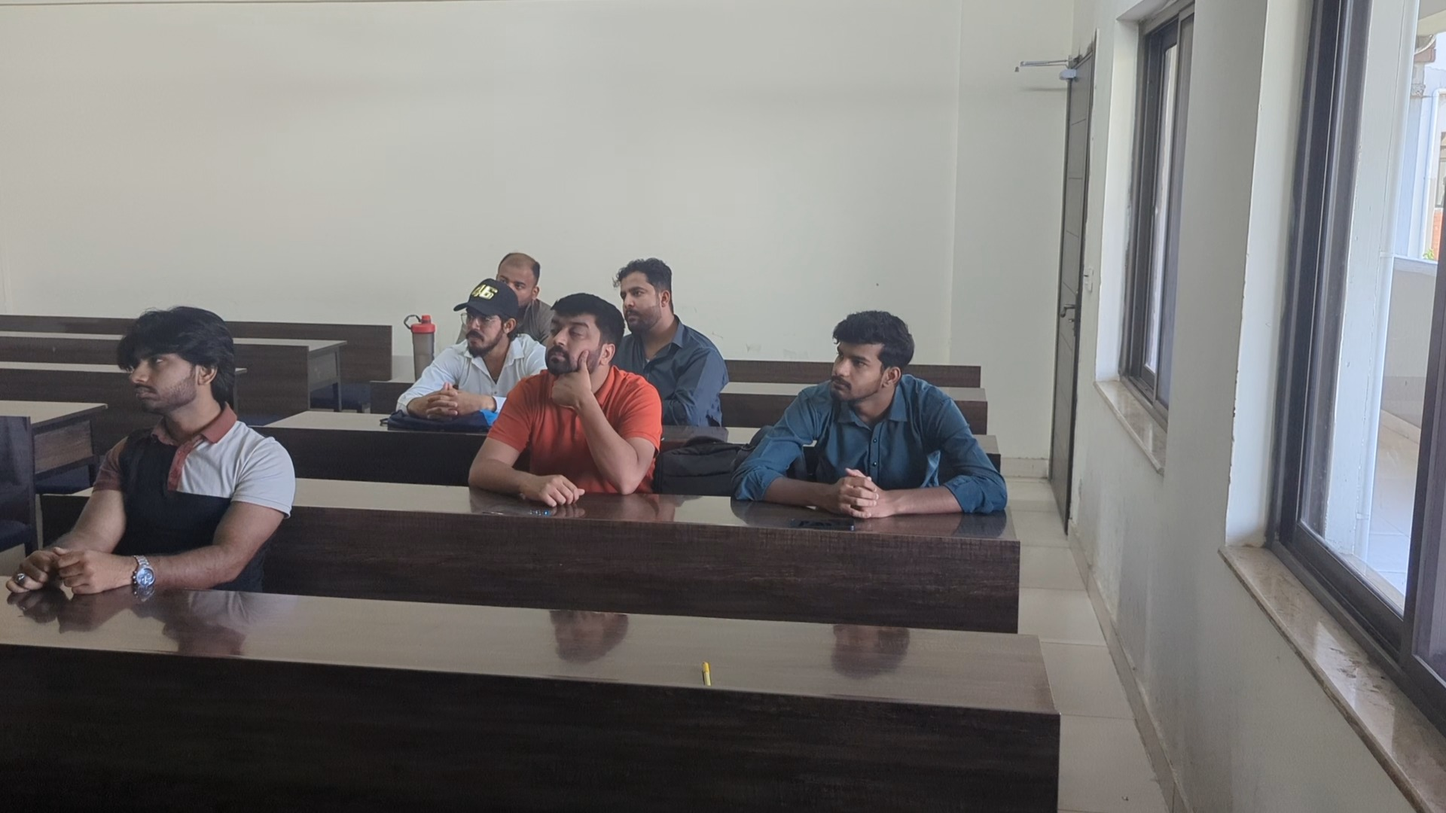look_forward: (16, 306, 295, 601), (755, 311, 992, 510), (478, 294, 666, 499), (596, 263, 740, 404), (397, 279, 507, 416), (485, 248, 543, 309)
